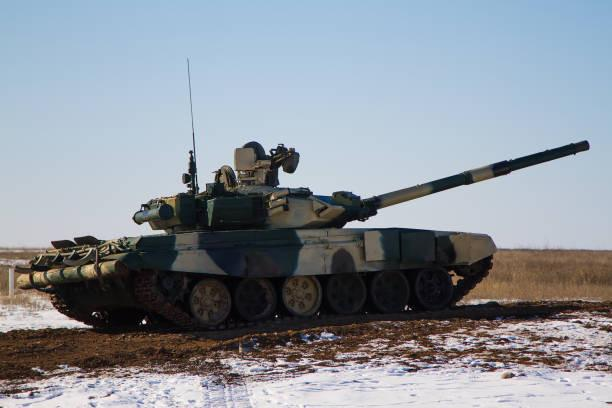tank: (16, 140, 589, 332)
